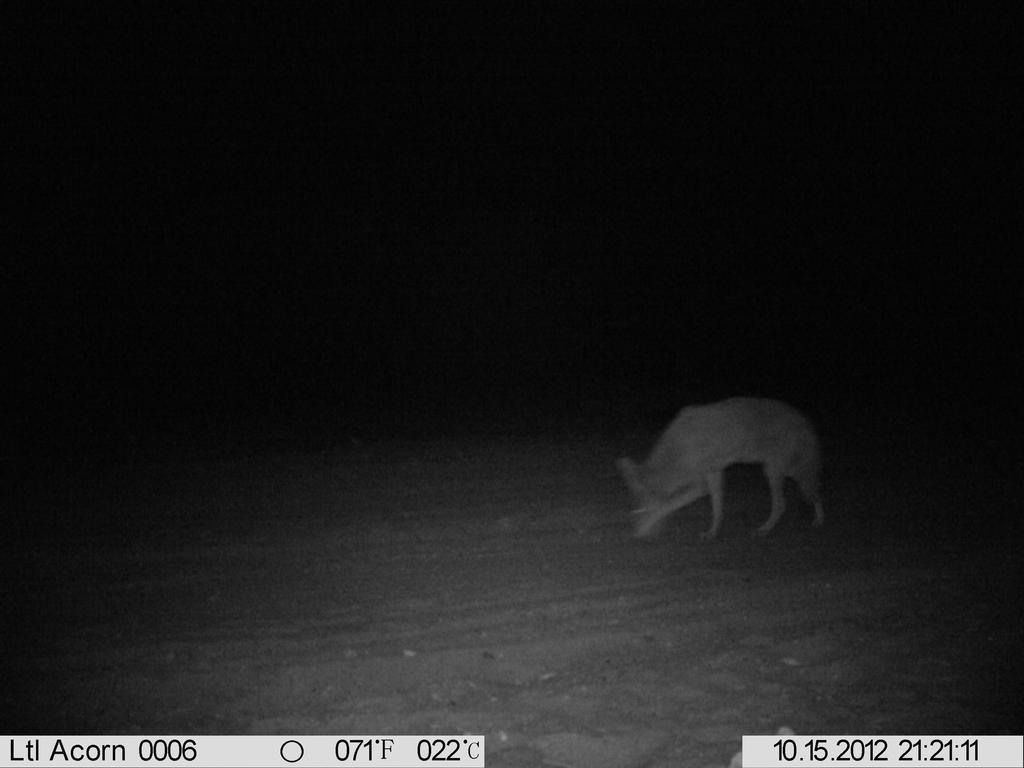coyote: (615, 388, 839, 551)
